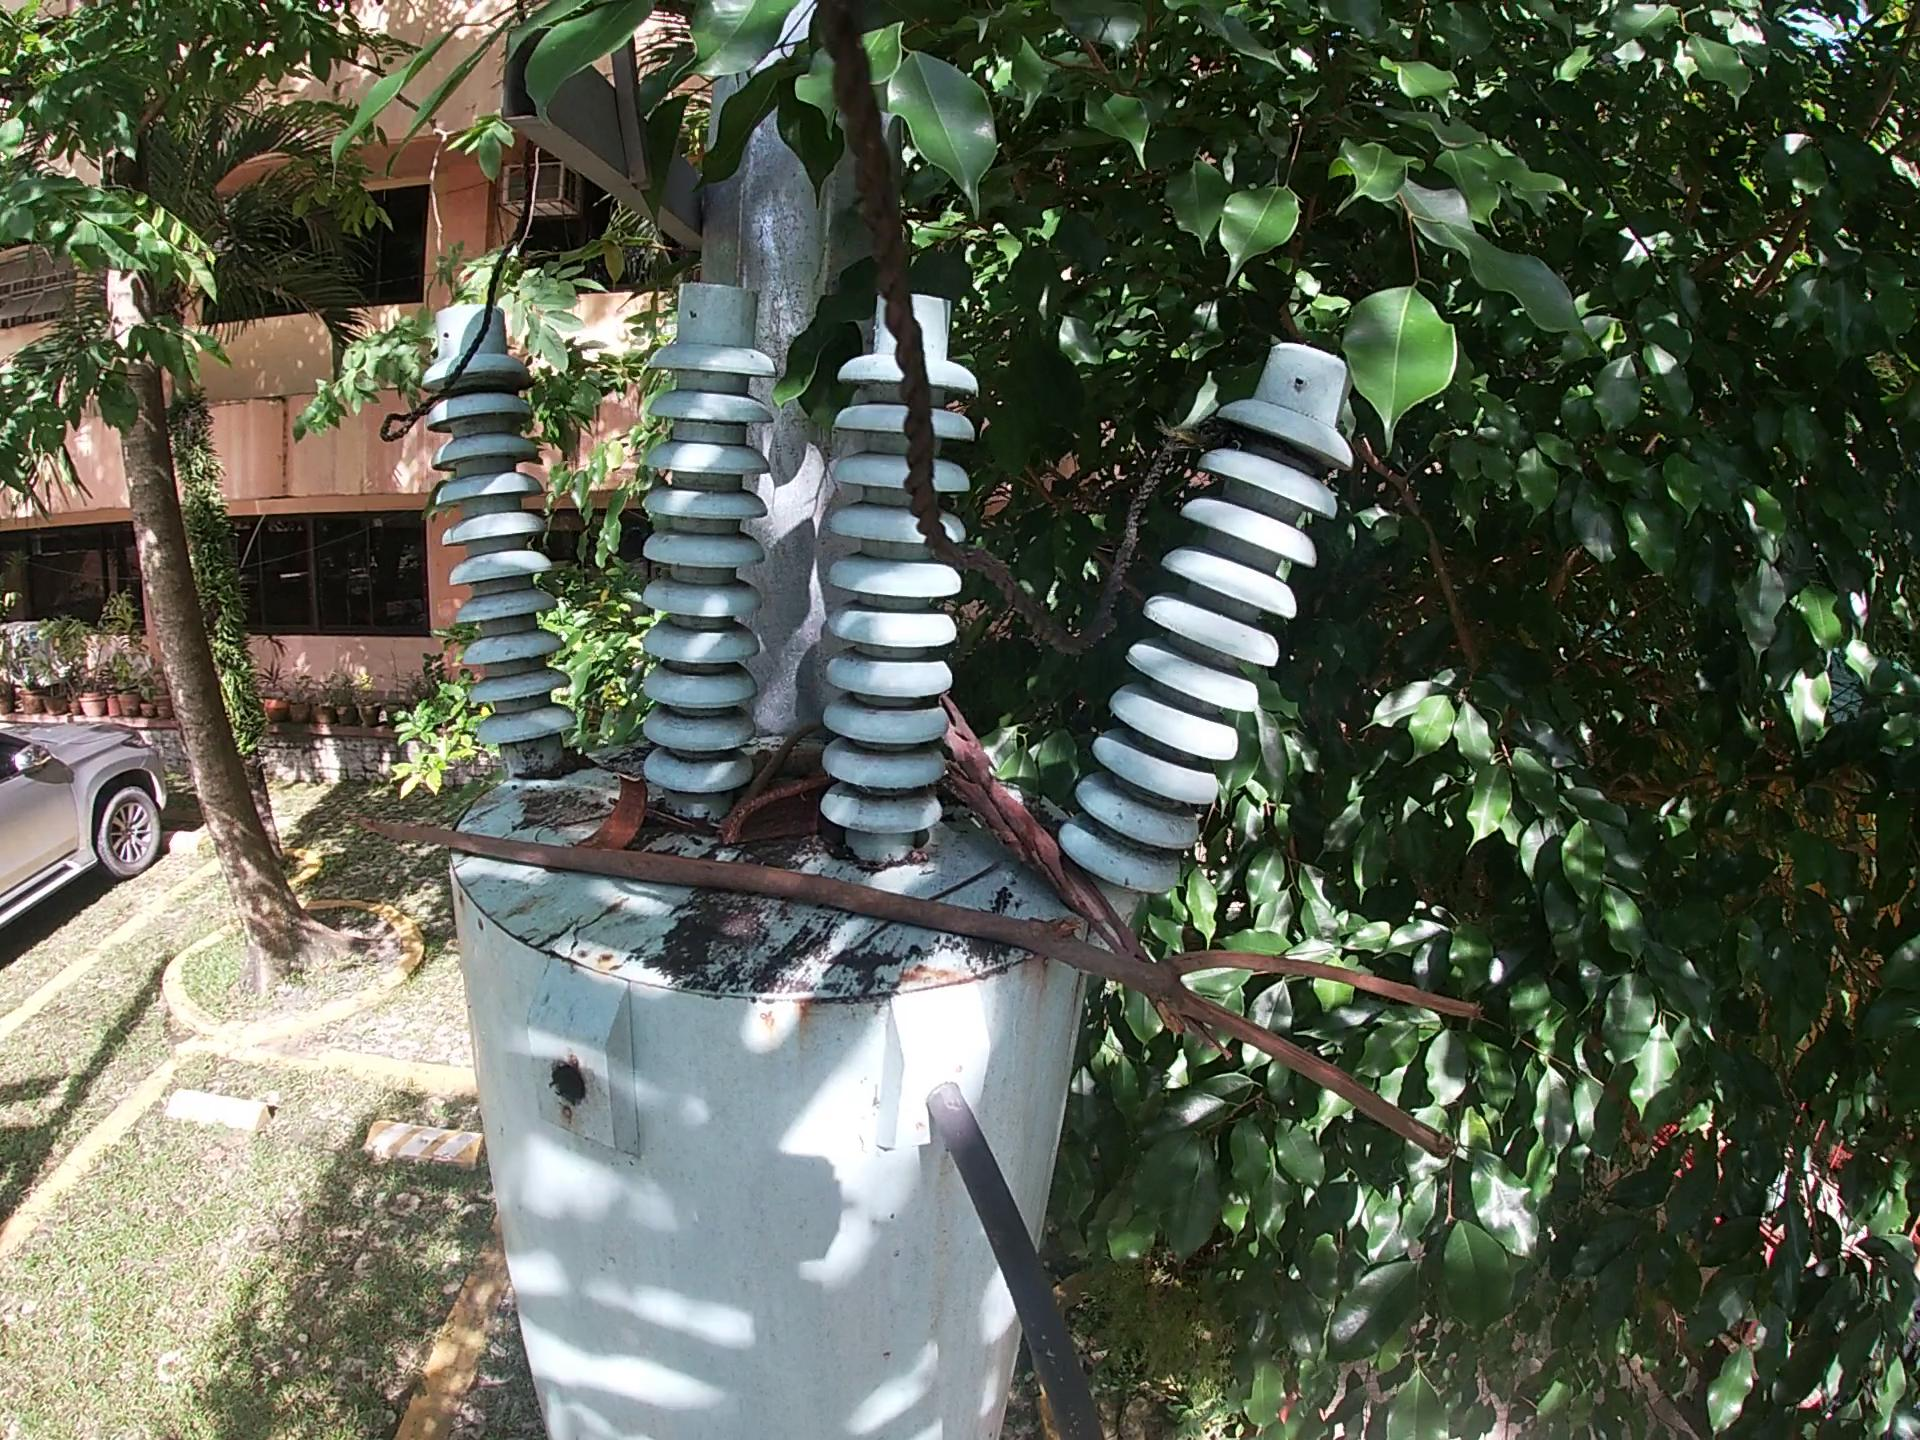mahogany fruit: (723, 777, 841, 858), (573, 777, 652, 859)
tree branch: (342, 802, 1500, 1178), (936, 694, 1231, 1069), (723, 717, 827, 835)
